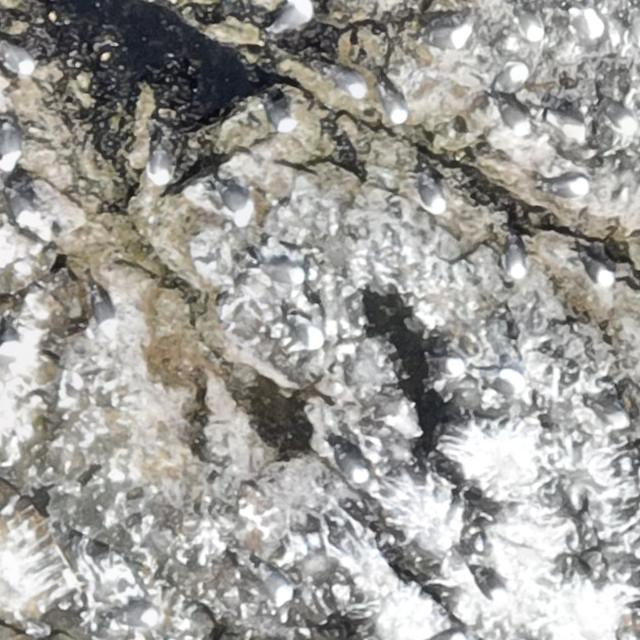umineko: (214, 175, 255, 233), (492, 97, 536, 135), (471, 568, 512, 608), (253, 572, 298, 608), (332, 443, 370, 485), (147, 132, 175, 188), (271, 1, 315, 36), (259, 95, 296, 134), (420, 22, 472, 49), (93, 288, 121, 338), (319, 67, 365, 97), (2, 40, 34, 79), (539, 176, 593, 198), (488, 64, 529, 92), (0, 120, 21, 173), (7, 194, 36, 231), (592, 402, 630, 430), (429, 352, 466, 378), (256, 262, 304, 280), (116, 608, 163, 626), (418, 186, 447, 215), (583, 257, 611, 284), (507, 244, 525, 280), (385, 93, 405, 123)
